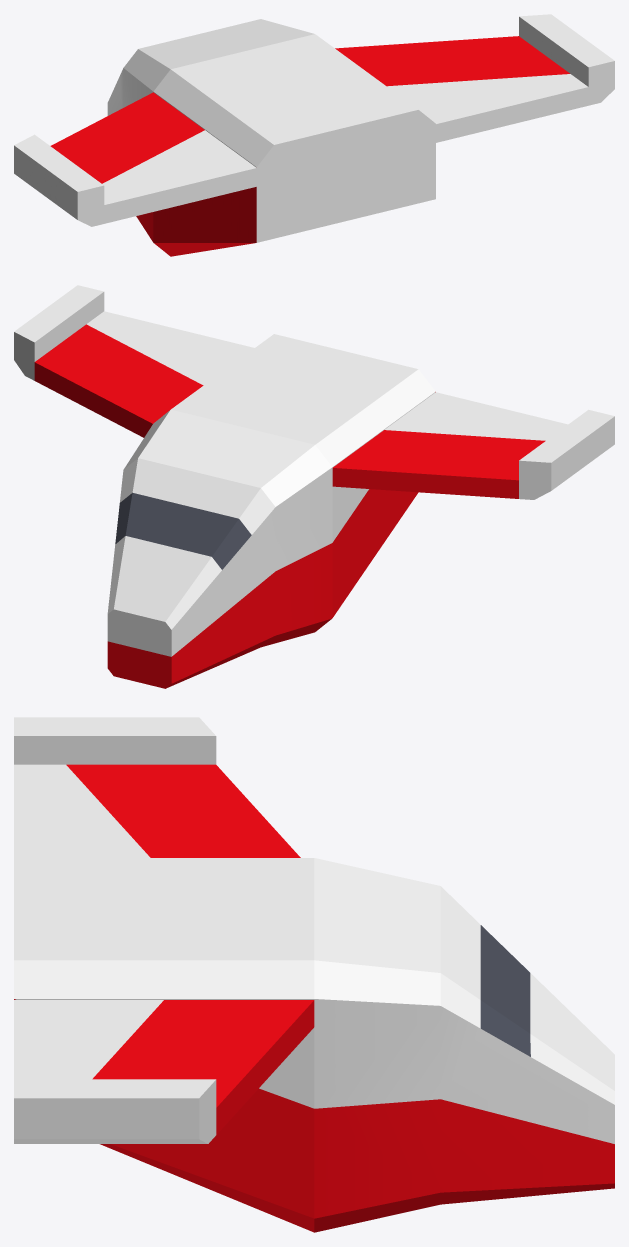
Rendered from Fighter.fbx.
The picture shows the model from 3 angles, top to bottom: view 1: azimuth 30°, elevation 25°; view 2: azimuth 150°, elevation 25°; view 3: azimuth 270°, elevation 25°; orthographic projection. The views are drawn at different scales.
Visible parts, largest first — view 1: plane_end_2, wind_endLow_9, wind_endLow_3, plane_cockpitDown_0; view 2: plane_cockpitDown_0, plane_end_2, wind_endLow_3, wind_endLow_9; view 3: plane_cockpitDown_0, plane_end_2, wind_endLow_9, wind_endLow_3.
Boxes of the visible parts, left/top/right/bottom form: plane_end_2: left=153, top=34, right=435, bottom=256; wind_endLow_9: left=335, top=14, right=614, bottom=142; wind_endLow_3: left=14, top=92, right=256, bottom=226; plane_cockpitDown_0: left=107, top=19, right=314, bottom=241; plane_cockpitDown_0: left=107, top=409, right=332, bottom=688; plane_end_2: left=171, top=334, right=435, bottom=617; wind_endLow_3: left=332, top=392, right=614, bottom=499; wind_endLow_9: left=14, top=285, right=254, bottom=437; plane_cockpitDown_0: left=314, top=858, right=614, bottom=1232; plane_end_2: left=14, top=858, right=314, bottom=1232; wind_endLow_9: left=14, top=1000, right=314, bottom=1143; wind_endLow_3: left=14, top=717, right=300, bottom=857.
Bounding box in the file's own units: 30 × 10.05 × 20.
